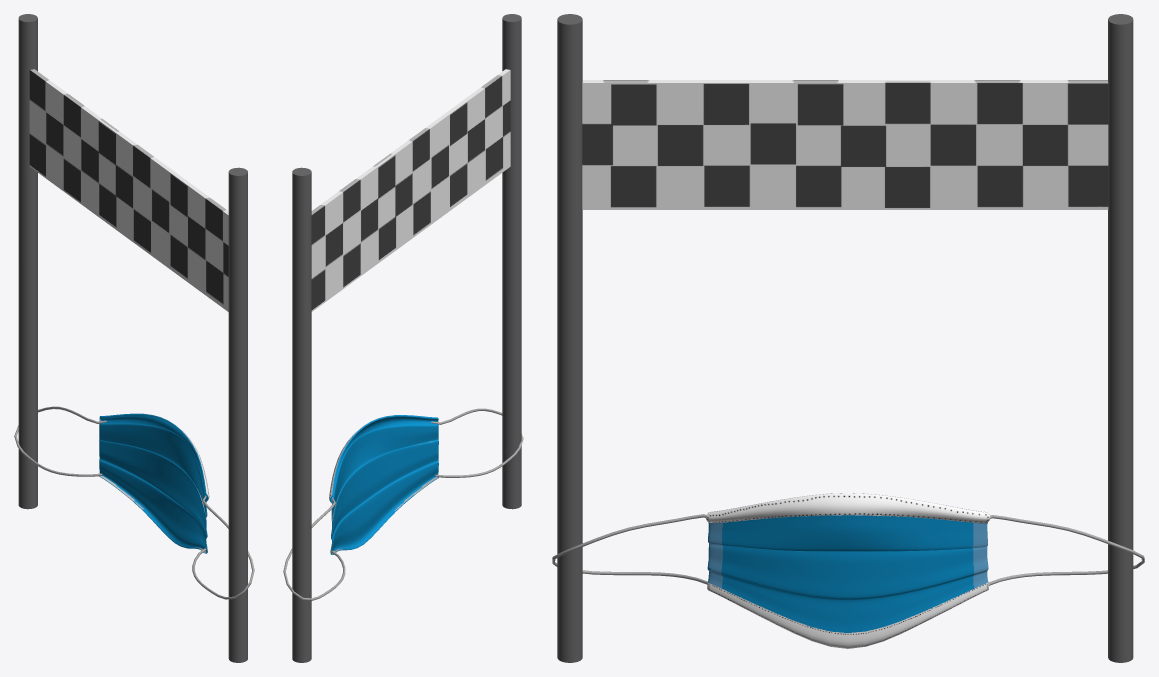
File: Mask_Finish_line.fbx
The picture shows the model from 3 angles, left to right: view 1: azimuth 30°, elevation 25°; view 2: azimuth 150°, elevation 25°; view 3: azimuth 270°, elevation 25°; orthographic projection. The views are drawn at different scales.
Visible parts, largest first — view 1: ___polySurface11, ___polySurface12, _polySurface1, _polySurface2; view 2: ___polySurface11, ___polySurface12, _polySurface2, _polySurface1; view 3: ___polySurface11, ___polySurface12, _polySurface1, _polySurface2.
Part boxes in pixels (x1,y1,x2,y2): ___polySurface11: (18,14,247,662); ___polySurface12: (99,413,209,553); _polySurface1: (14,406,106,476); _polySurface2: (192,495,254,599); ___polySurface11: (292,14,521,662); ___polySurface12: (329,415,438,554); _polySurface2: (431,408,523,477); _polySurface1: (283,497,345,600); ___polySurface11: (557,14,1133,662); ___polySurface12: (706,493,990,648); _polySurface1: (988,515,1144,585); _polySurface2: (552,514,707,584).
Size of the model in its own units: 1.74 by 13.21 by 11.12.
